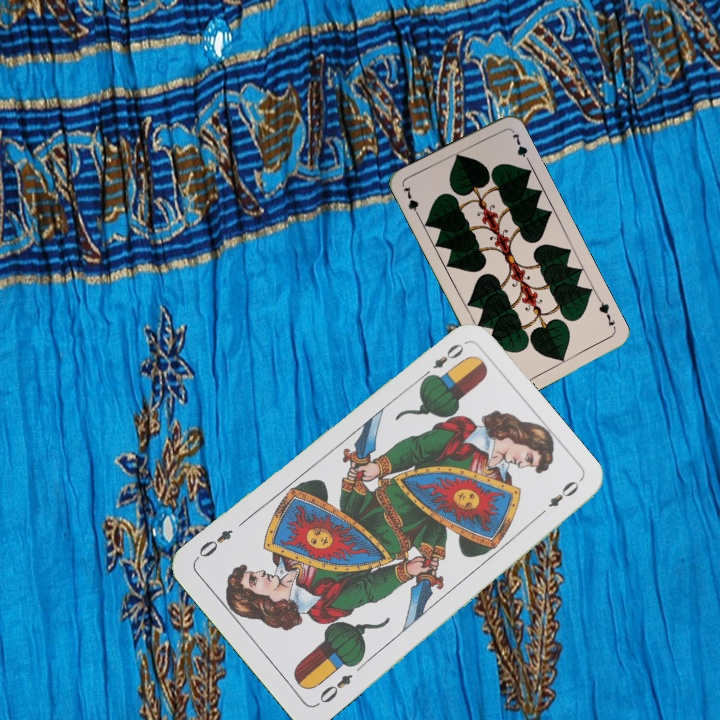EO: (417, 339, 467, 383), (312, 670, 356, 709)
G7: (399, 182, 423, 221), (594, 295, 618, 333)
